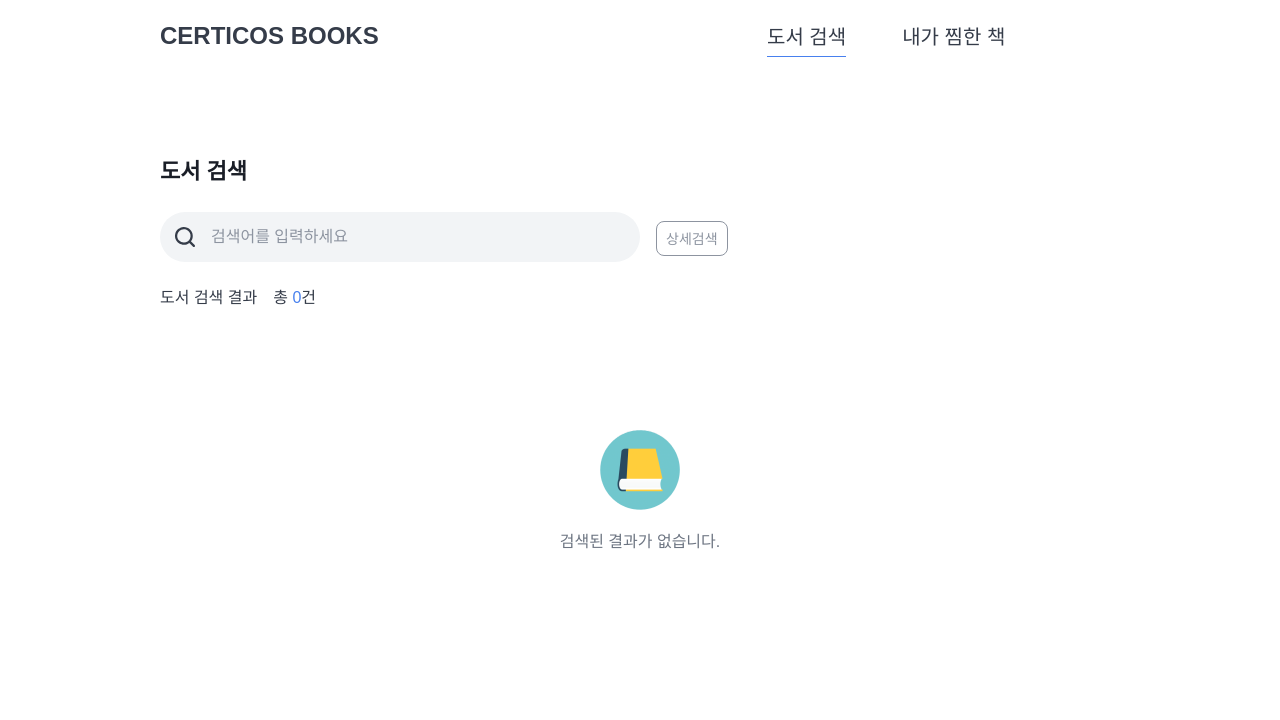
it: 상세 검색 › 검색 조건 목록이 열린 상태에서 Esc를 누르면 목록만 닫고 팝업은 그대로 둔다
The image size is (1280, 720).
Step 1. Click the button "상세검색" → click(692, 238), box [656,221,728,256]
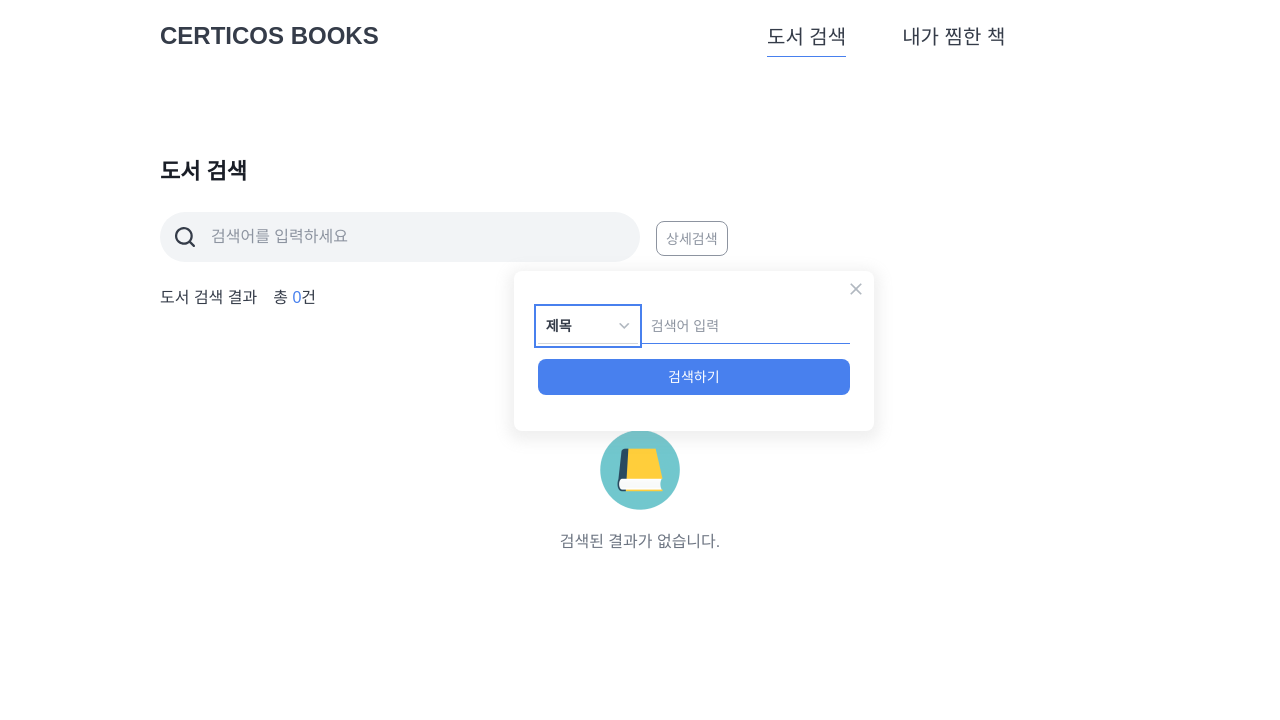
Step 2. Click the dropdown named "검색 조건" → click(588, 326), box [538,308,638,344]
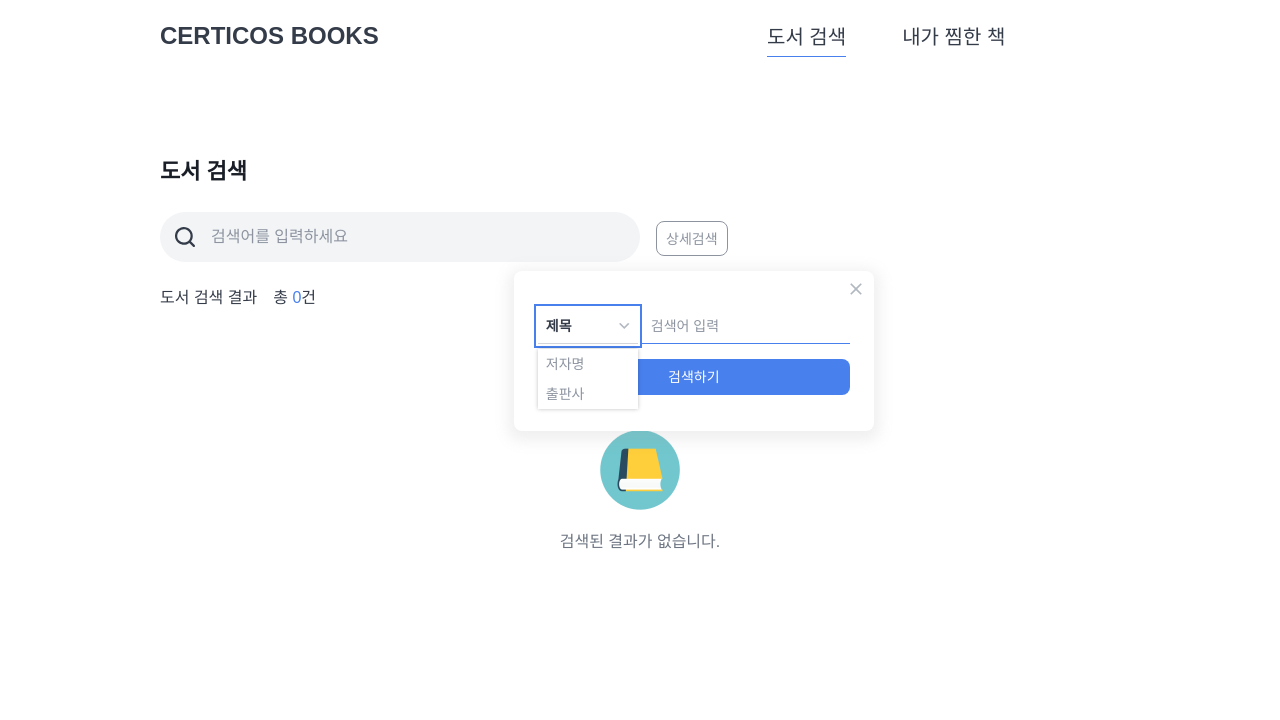
Step 3. Press Escape
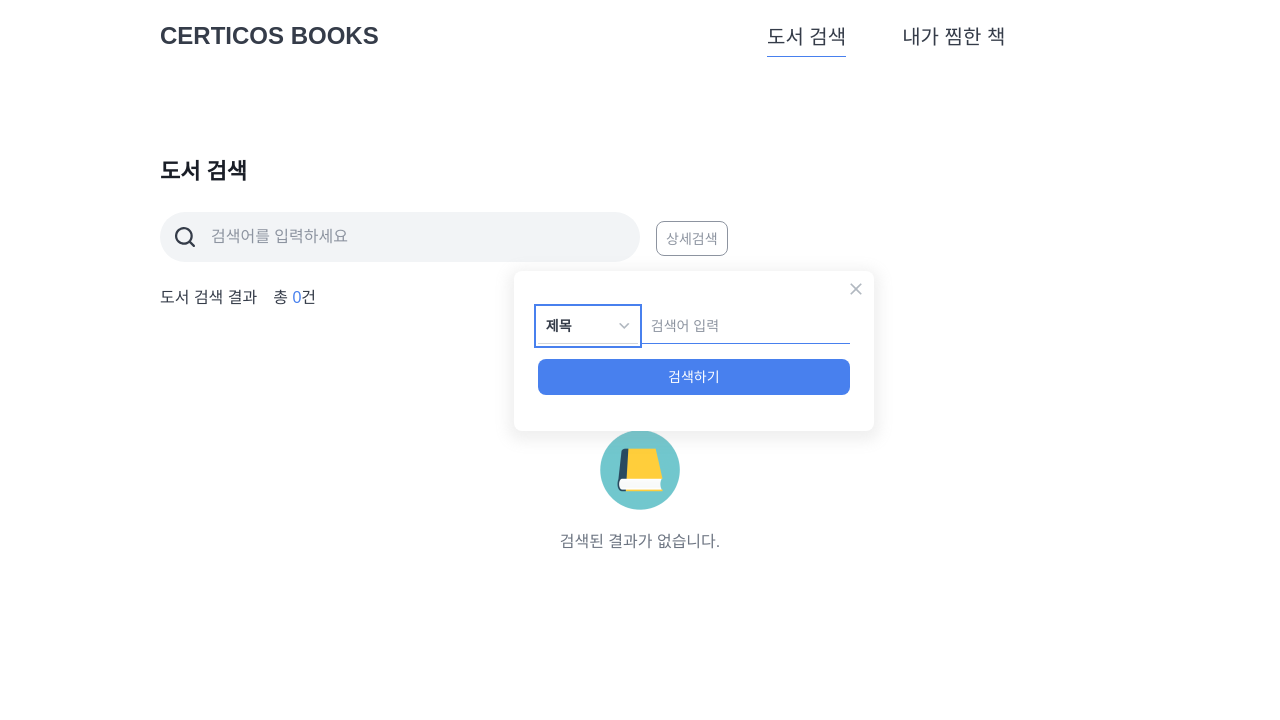
Now the dialog named "상세 검색" is shown, box [514,271,874,431]
Now the list is gone
